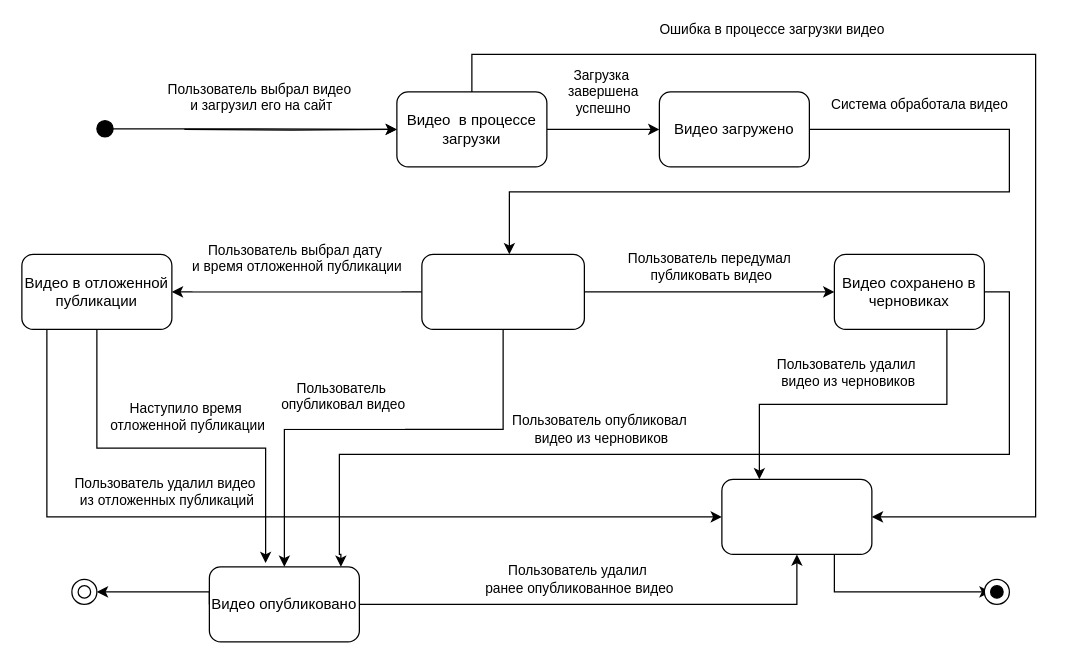
Image size: 1068x664. Some labels were removed from this diagram. The shapes that lost their labels are listed below. From the top down, each one's box as (x1, y1, x2, y2) in pixels, then its label:
(421, 253, 584, 329): Видео обработано и готово к публикации
(721, 478, 872, 554): Видео удалено
